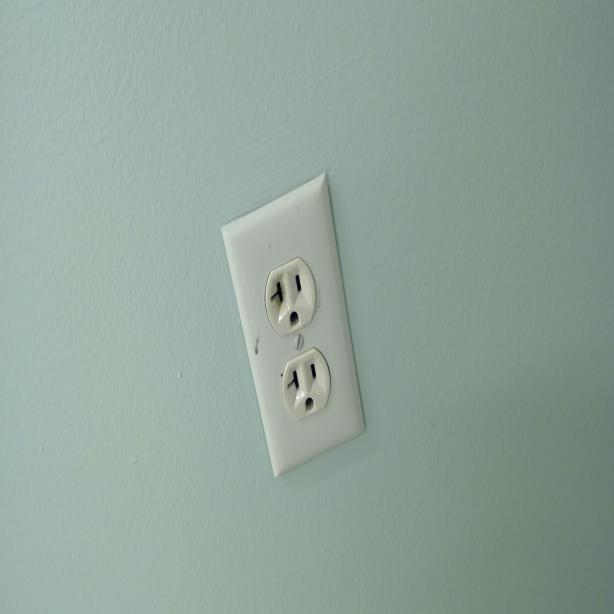typeb: (266, 264, 310, 327), (282, 356, 325, 416)
